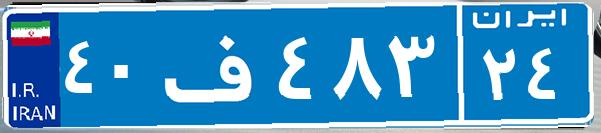0: (110, 28, 158, 105)
2: (475, 38, 525, 113)
3: (385, 28, 445, 110)
4: (273, 28, 330, 110), (57, 26, 110, 107), (525, 38, 570, 115)
8: (330, 28, 385, 110)
ف: (158, 15, 273, 115)
